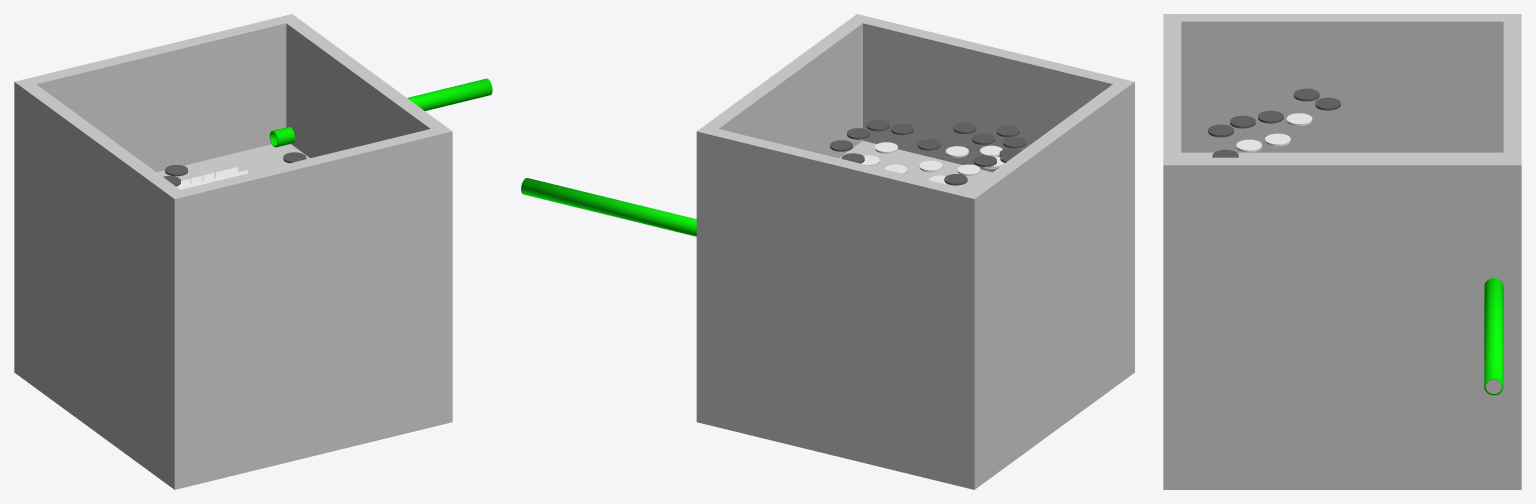
File: dt_level.gltf
3 renders of one model, left to right at view 1: azimuth 30°, elevation 25°; view 2: azimuth 150°, elevation 25°; view 3: azimuth 270°, elevation 25°, orthographic. The views are drawn at different scales.
Visible parts, largest first — view 1: CSGCombiner3D2, tube; view 2: CSGCombiner3D2, tube; view 3: CSGCombiner3D2, tube.
Boxes of the visible parts, <box> form: CSGCombiner3D2: <box>14,14,452,489</box>; tube: <box>269,78,492,147</box>; CSGCombiner3D2: <box>696,14,1134,489</box>; tube: <box>521,178,696,236</box>; CSGCombiner3D2: <box>1163,14,1521,489</box>; tube: <box>1484,278,1503,395</box>.
Bounding box in the file's own units: 83.06 × 50 × 50.
